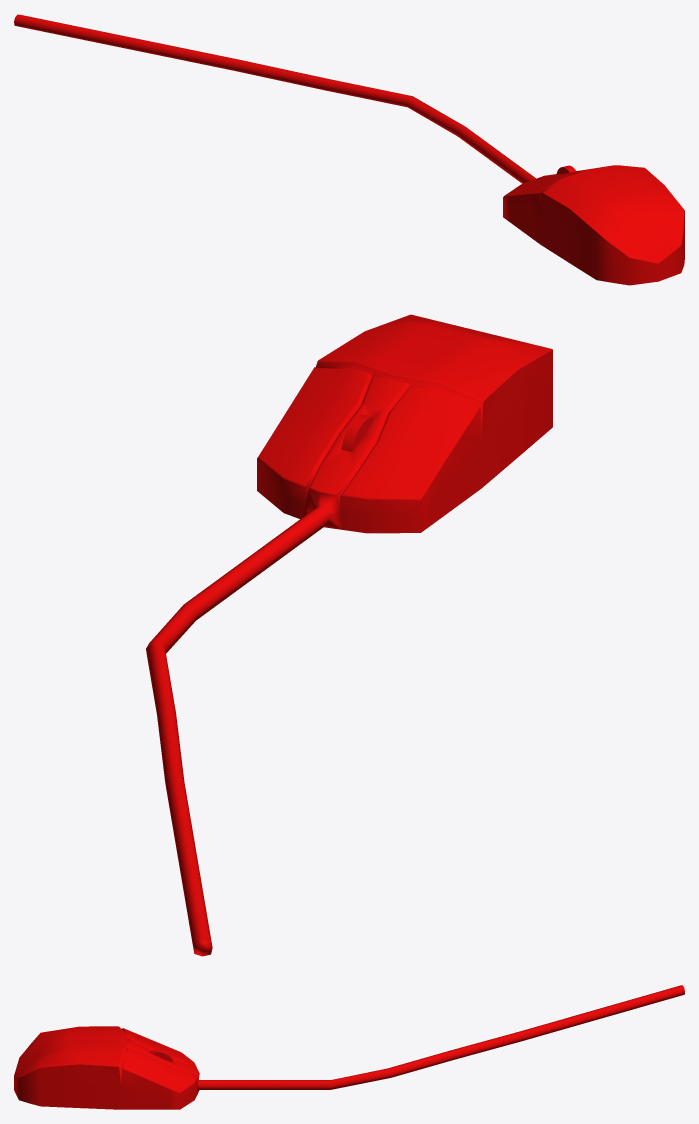
Rendered from SM_Mouse.fbx.
3 views of the same model, one above another, from view 1: azimuth 30°, elevation 25°; view 2: azimuth 150°, elevation 25°; view 3: azimuth 270°, elevation 25° (orthographic). The views are drawn at different scales.
Parts seen in each view (by area): view 1: SM_Mouse_low; view 2: SM_Mouse_low; view 3: SM_Mouse_low.
Part boxes in pixels (box(x1,y1,x2,y2)): SM_Mouse_low: box(14, 14, 684, 285); SM_Mouse_low: box(146, 314, 552, 956); SM_Mouse_low: box(14, 985, 684, 1109).
Bounding box in the file's own units: 23.87 × 5.03 × 60.76.
